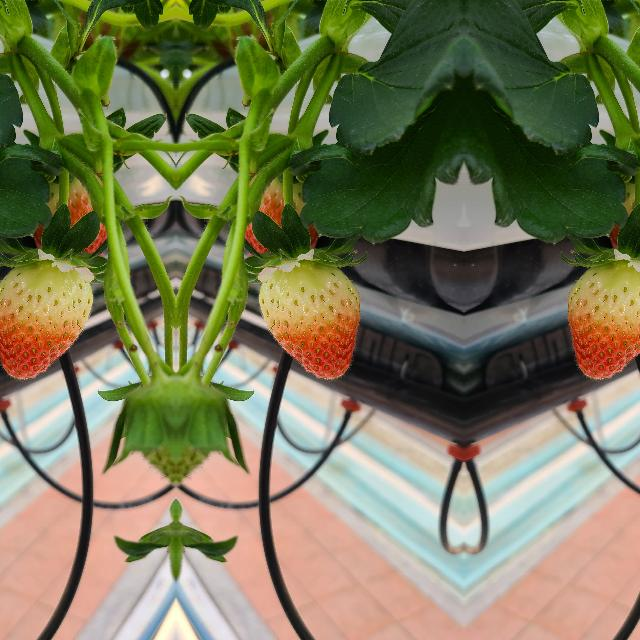Health_50: (256, 259, 360, 381), (0, 259, 94, 381), (565, 259, 640, 381)
